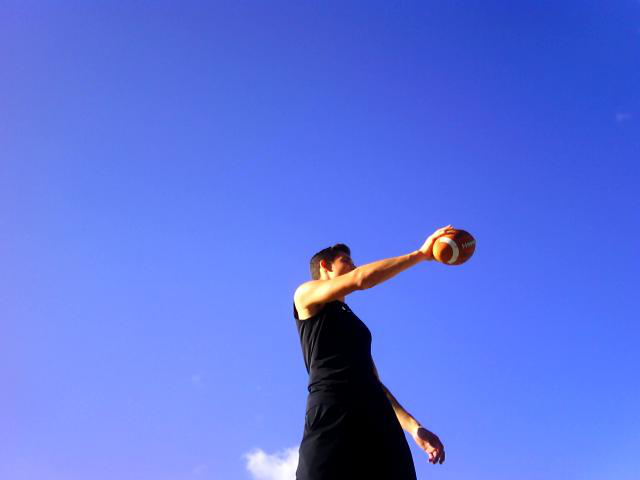footbal: (432, 227, 477, 266)
